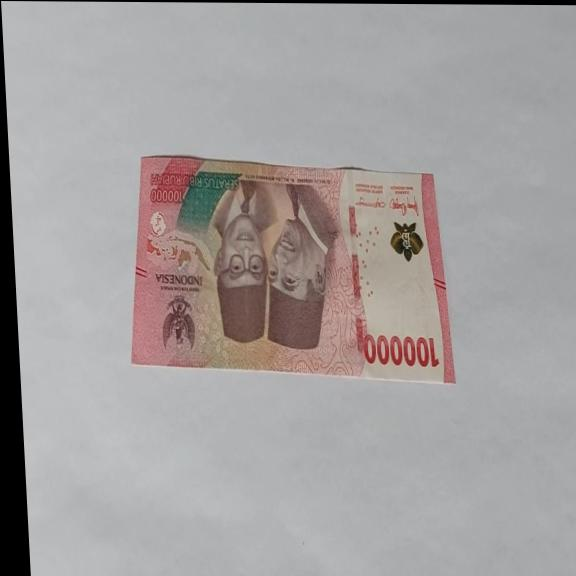Kertas: (119, 154, 455, 385), (362, 332, 440, 370)
